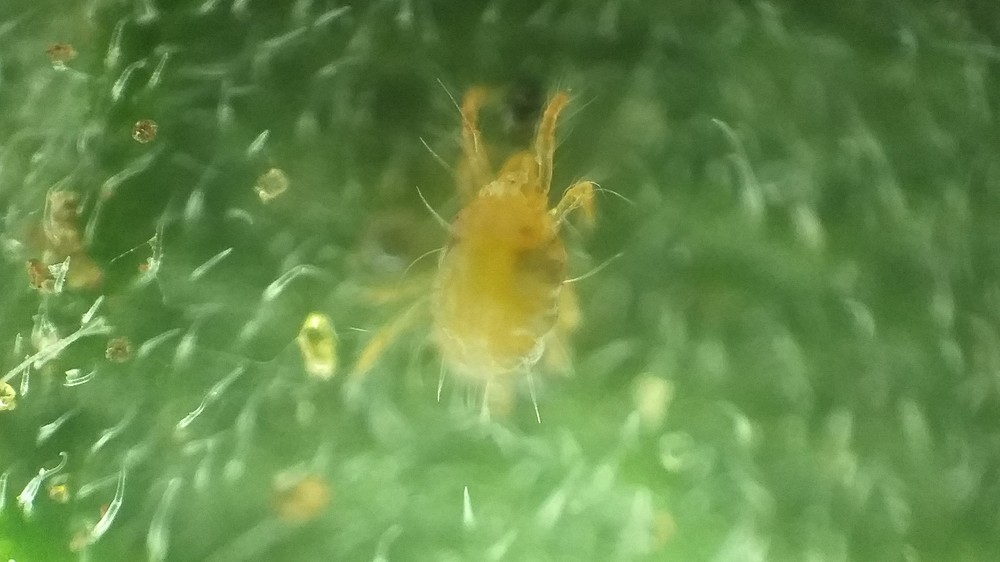Aracnido Rojo: (364, 73, 628, 454)
